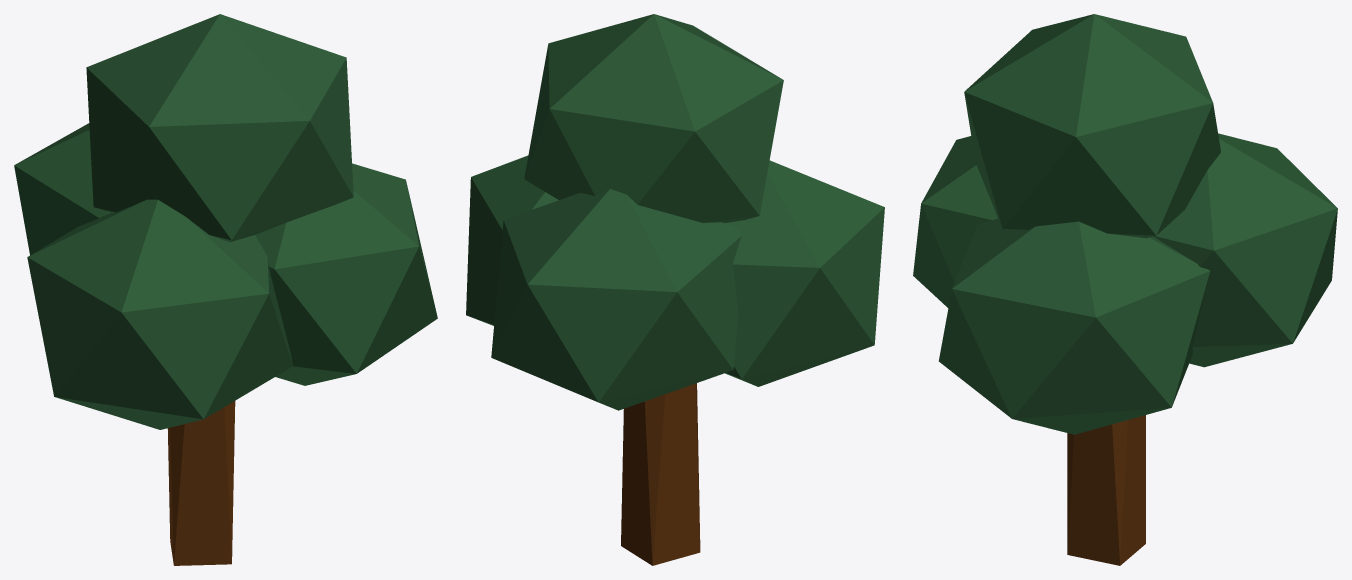
3 views of the same model, side by side, from view 1: azimuth 30°, elevation 25°; view 2: azimuth 150°, elevation 25°; view 3: azimuth 270°, elevation 25° (orthographic). The views are drawn at different scales.
Visible parts, largest first — view 1: node (×2); view 2: node (×2); view 3: node (×2).
Boxes of the visible parts, x1,y1,x2,y2 form: node (×2): [14, 14, 437, 565]; node (×2): [466, 14, 884, 565]; node (×2): [913, 14, 1337, 565].
Bounding box in the file's own units: 0.8453 × 1.14 × 0.8109.
